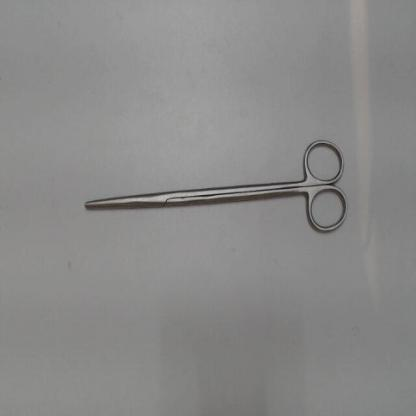9 Metzenbaum Scissors: (84, 134, 353, 239)
